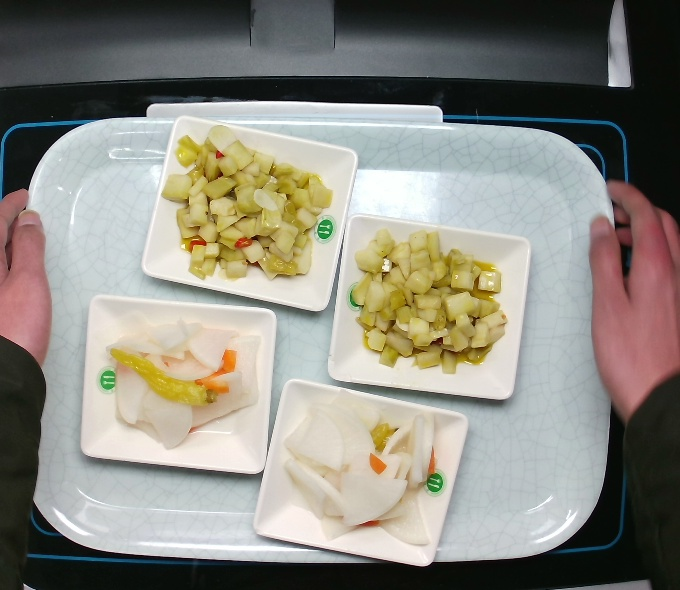wcq-LuLuoBo: (284, 385, 443, 542), (97, 310, 263, 448)
wcq-TangCuOu: (158, 121, 340, 284), (348, 225, 511, 376)
